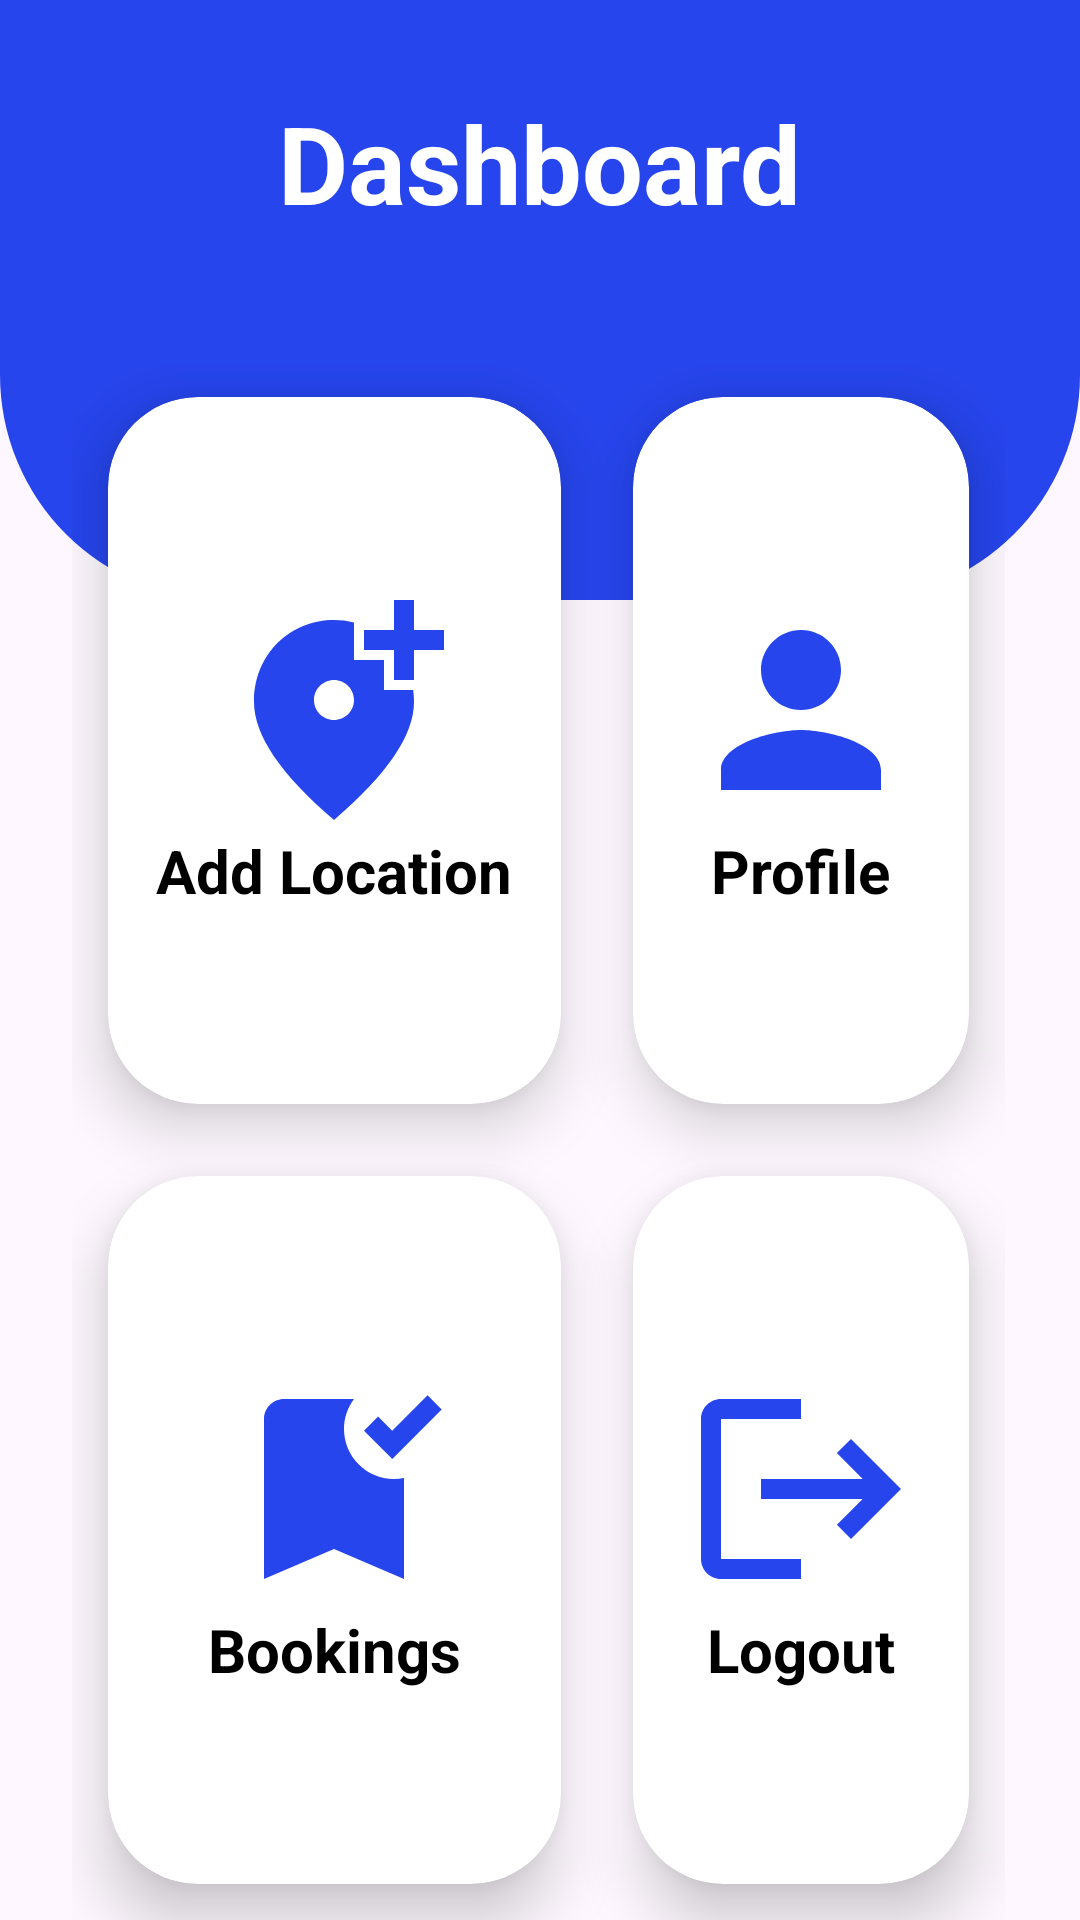

Screen size 1080px×1920px. Icon name, then its box in pixels as (left=x1, top=y1, right=x2, bottom=y2):
bookmark added: (left=264, top=1395, right=442, bottom=1579)
